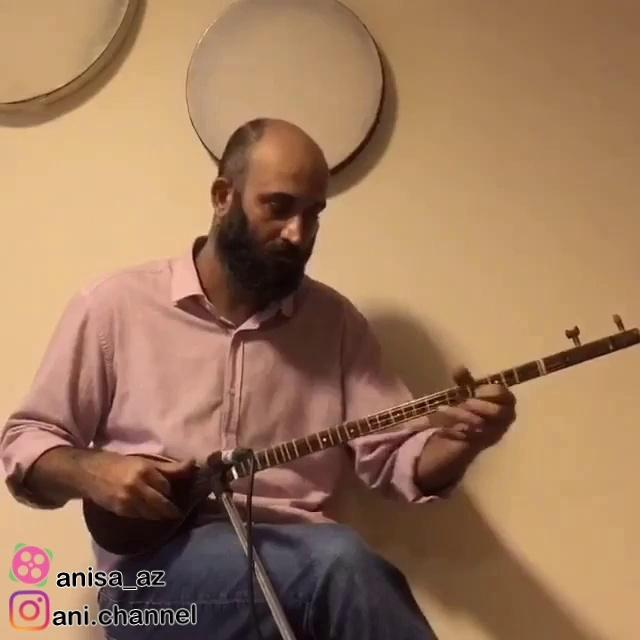Setar: (72, 304, 638, 566)
